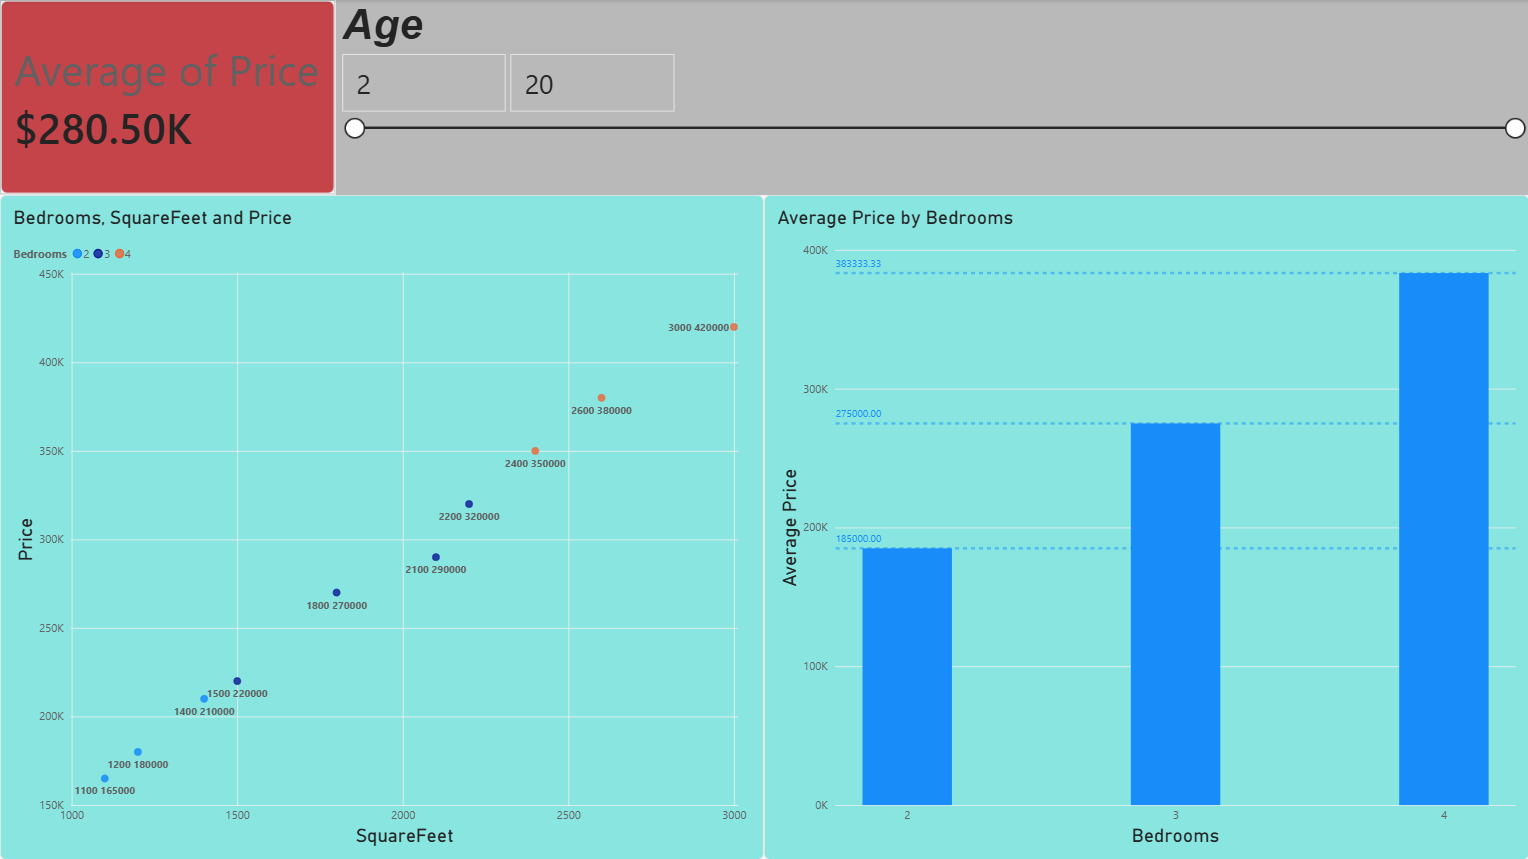

Layout of this report page (visuals, bound fields, positions):
{"tool":"powerbi","page":{"name":"Page 1","canvas":[1920,1080],"ordinal":0},"visuals":[{"type":"cardVisual","fields":{"Data":["Avg(housing.Price)"]},"box":[0,0,422,244.9],"z":0},{"type":"scatterChart","fields":{"Series":["housing.Bedrooms"],"X":["housing.SquareFeet"],"Y":["housing.Price"]},"box":[0,244.9,959.4,835.1],"z":1},{"type":"clusteredColumnChart","title":"Average Price by Bedrooms","fields":{"Category":["housing.Bedrooms"],"Y":["Avg(housing.Price)"]},"box":[959.4,244.9,960.7,835.1],"z":2},{"type":"slicer","fields":{"Values":["housing.Age"]},"box":[422,0,1496.9,244.9],"z":3}]}

Visuals, with their boxes in screenshot pixels (x1, y1, x2, y2), scaled from the page's 1920x1080 canvas onto the 1528x859 screenshot:
cardVisual - Avg(housing.Price): (0,0,336,195)
scatterChart - housing.Bedrooms x housing.SquareFeet: (0,195,764,858)
"Average Price by Bedrooms" clusteredColumnChart: (764,195,1527,858)
slicer - housing.Age: (336,0,1527,195)
